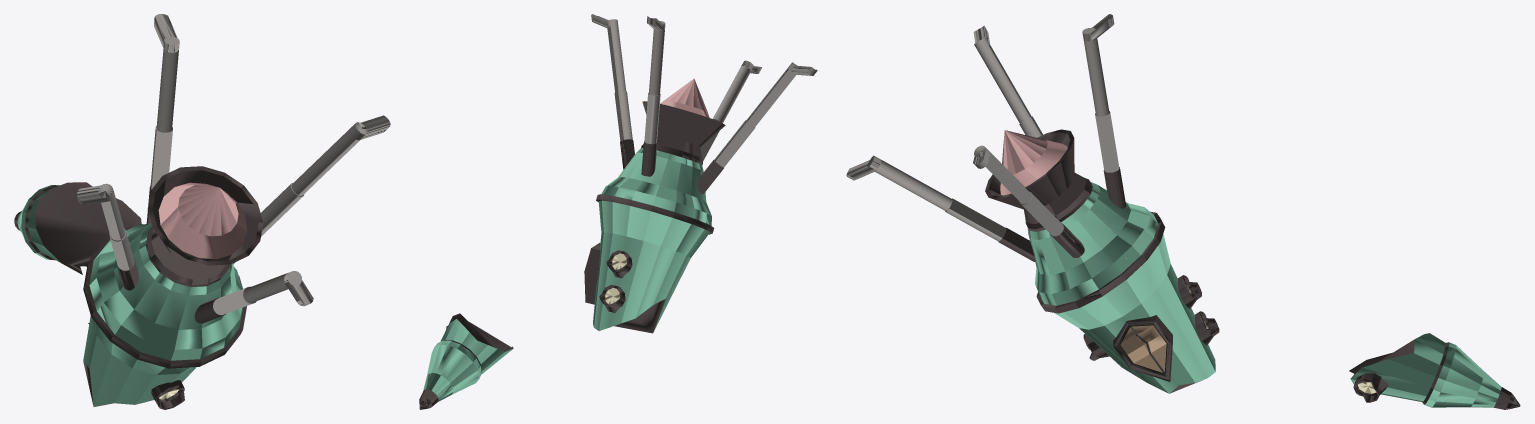
File: ggj_rocket.fbx
3 renders of one model, left to right at view 1: azimuth 30°, elevation 25°; view 2: azimuth 150°, elevation 25°; view 3: azimuth 270°, elevation 25°, orthographic. The views are drawn at different scales.
Parts seen in each view (by area): view 1: Cylinder_1; view 2: Cylinder_1; view 3: Cylinder_1.
Part boxes in pixels (box(x1,y1,x2,y2)): Cylinder_1: box(14, 14, 390, 409); Cylinder_1: box(419, 14, 817, 409); Cylinder_1: box(846, 14, 1520, 409).
Size of the model in its own units: 224 by 281 by 473.
